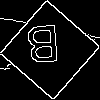B: (25, 25, 62, 73)
